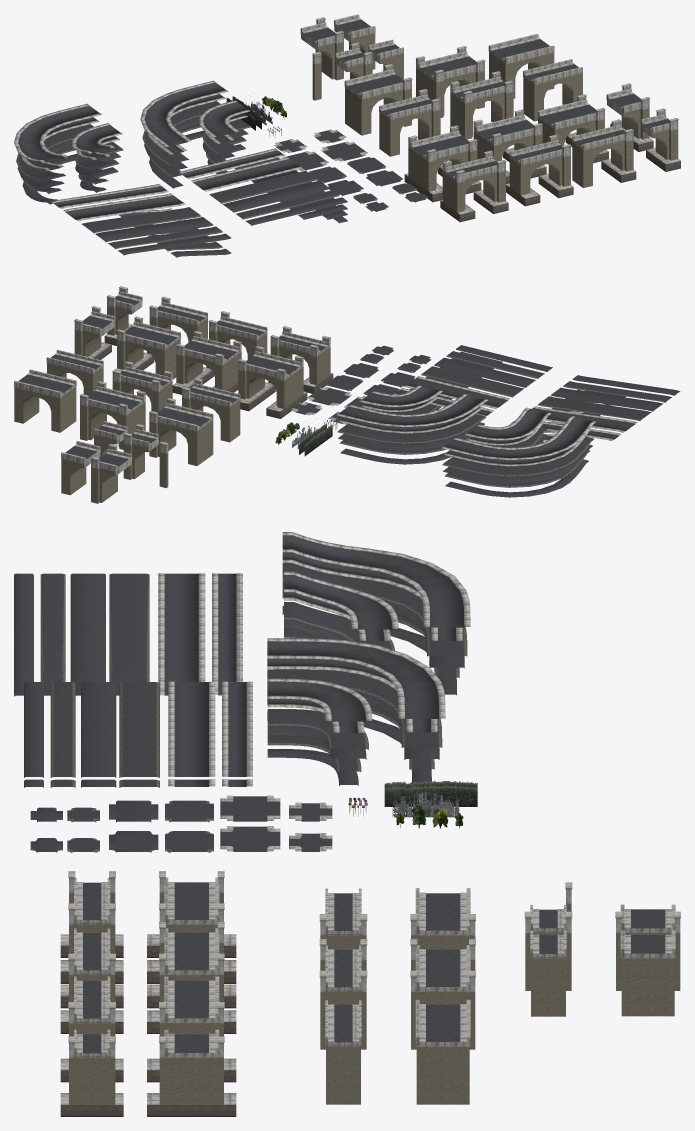
File: roads.glb
3 views of the same model, one above another, from view 1: azimuth 30°, elevation 25°; view 2: azimuth 150°, elevation 25°; view 3: azimuth 270°, elevation 25° (orthographic). The views are drawn at different scales.
Parts seen in each view (by area): view 1: Bridge.001_74, Bridge.003_87, Bridge.002_75, Bridge.004_78, Bridge.009_72, Bridge.010_77, Bridge.008_73, Bridge.006_88, Bridge.011_76, road.047_28, Bridge.012_81, Bridge.005_79 (+39 smaller); view 2: Bridge.002_75, Bridge.006_88, Bridge.013_80, Bridge.009_72, Bridge.005_79, Bridge.011_76, road.059_52, Bridge.001_74, road.047_28, Bridge.008_73, Bridge.010_77, road.057_50 (+39 smaller); view 3: Bridge_90, road.059_52, road.047_28, Bridge.013_80, Bridge.006_88, road.033_58, Bridge.002_75, Bridge.017_85, Bridge.007_89, Bridge.011_76, road.031_56, Bridge.005_79 (+40 smaller).
Boxes of the visible parts, <box> form: Bridge.001_74: <box>440,150,508,222</box>; Bridge.003_87: <box>506,134,573,206</box>; Bridge.002_75: <box>404,125,481,202</box>; Bridge.004_78: <box>572,119,636,187</box>; Bridge.009_72: <box>344,64,412,135</box>; Bridge.010_77: <box>450,71,513,139</box>; Bridge.008_73: <box>379,89,440,156</box>; Bridge.006_88: <box>473,109,546,183</box>; Bridge.011_76: <box>415,46,485,117</box>; road.047_28: <box>140,80,228,147</box>; Bridge.012_81: <box>523,59,582,121</box>; Bridge.005_79: <box>537,94,608,162</box>; Bridge.002_75: <box>238,346,307,418</box>; Bridge.006_88: <box>172,331,241,394</box>; Bridge.013_80: <box>14,369,76,432</box>; Bridge.009_72: <box>149,398,213,465</box>; Bridge.005_79: <box>115,316,180,379</box>; Bridge.011_76: <box>79,381,145,449</box>; road.059_52: <box>441,416,595,459</box>; Bridge.001_74: <box>268,326,333,393</box>; road.047_28: <box>336,394,487,427</box>; Bridge.008_73: <box>181,378,240,442</box>; Bridge.010_77: <box>112,361,172,412</box>; road.057_50: <box>442,436,594,476</box>; Bridge_90: <box>147,1029,236,1116</box>; road.059_52: <box>282,532,470,627</box>; road.047_28: <box>267,638,445,718</box>; Bridge.013_80: <box>415,999,470,1104</box>; Bridge.006_88: <box>147,921,236,1033</box>; road.033_58: <box>158,573,205,671</box>; Bridge.002_75: <box>147,871,236,983</box>; Bridge.017_85: <box>620,930,675,1016</box>; Bridge.007_89: <box>60,1029,123,1116</box>; Bridge.011_76: <box>410,938,475,1049</box>; road.031_56: <box>109,573,149,672</box>; Bridge.005_79: <box>147,976,236,1082</box>.
Size of the model in its own units: 124 by 19.19 by 79.08.
Materials: 25 (25 with a texture image).
